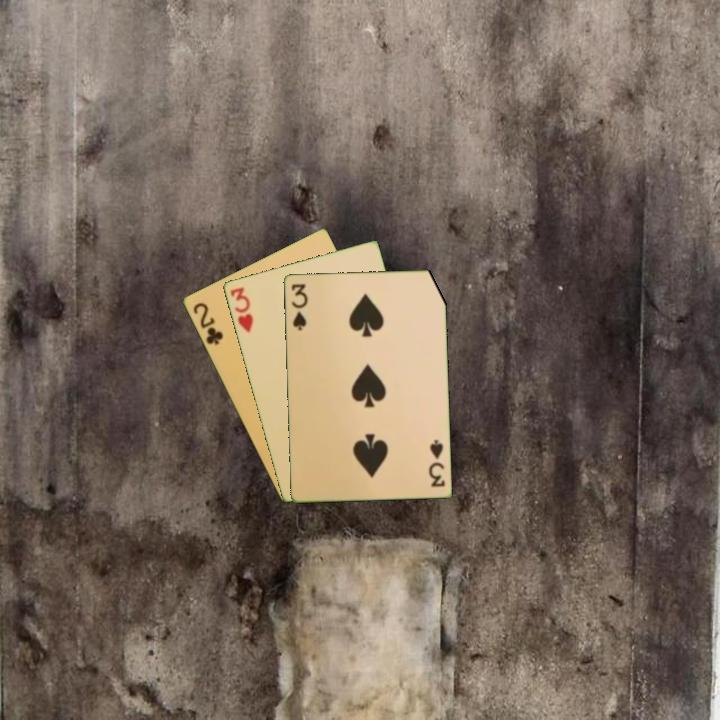2c: (189, 299, 226, 348)
3h: (226, 283, 256, 335)
3s: (425, 436, 447, 490), (288, 280, 310, 333)
